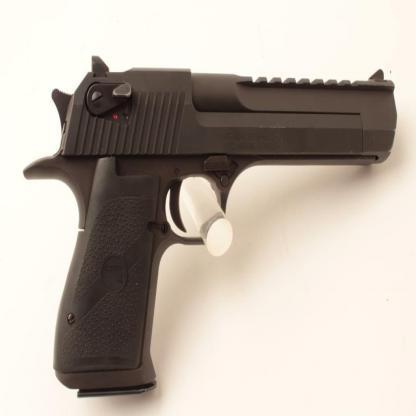Pistol: (21, 57, 398, 411)
